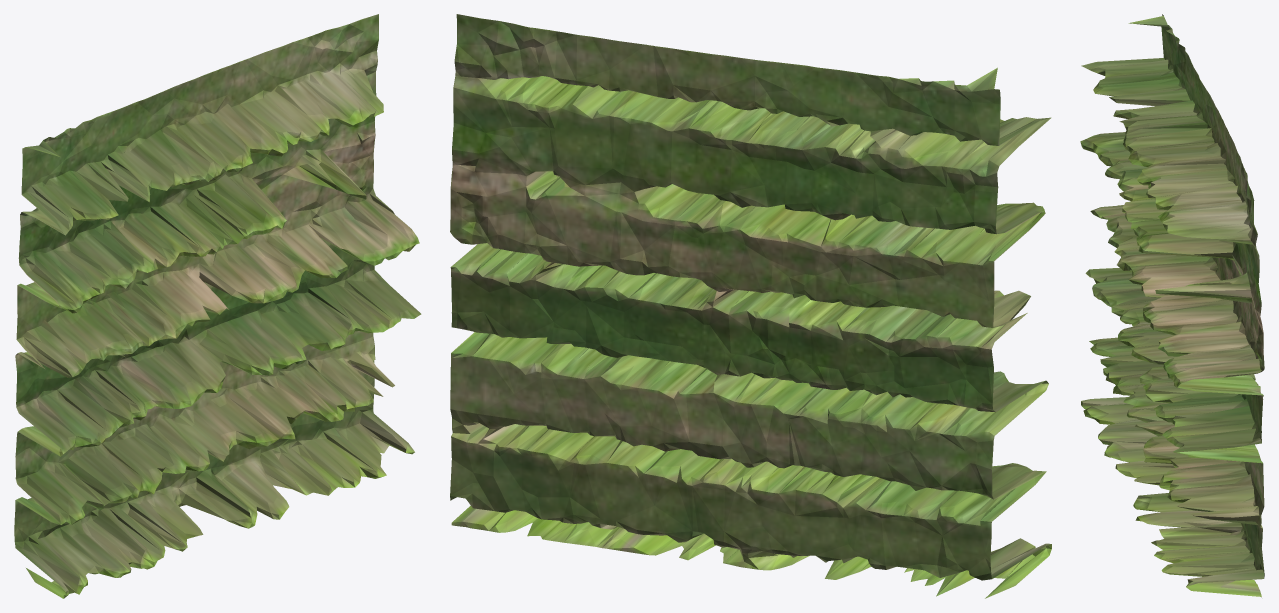
Rendered from map_170_20.obj.
The picture shows the model from 3 angles, left to right: view 1: azimuth 30°, elevation 25°; view 2: azimuth 150°, elevation 25°; view 3: azimuth 270°, elevation 25°; orthographic projection. The views are drawn at different scales.
Parts seen in each view (by area): view 1: grp1; view 2: grp1; view 3: grp1.
Boxes of the visible parts, bbox=[...] form: grp1: bbox=[14, 14, 421, 598]; grp1: bbox=[450, 14, 1051, 598]; grp1: bbox=[1080, 14, 1264, 597].
Bounding box in the file's own units: 10 × 10 × 4.19.
1 material, 1 textured.
